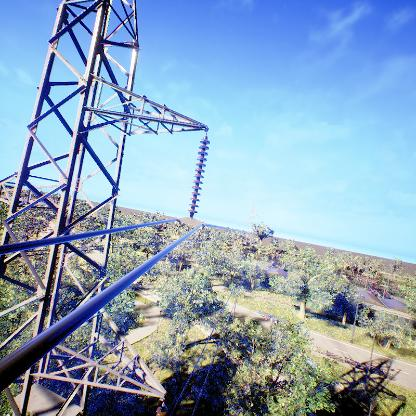insulator: (187, 137, 211, 218)
